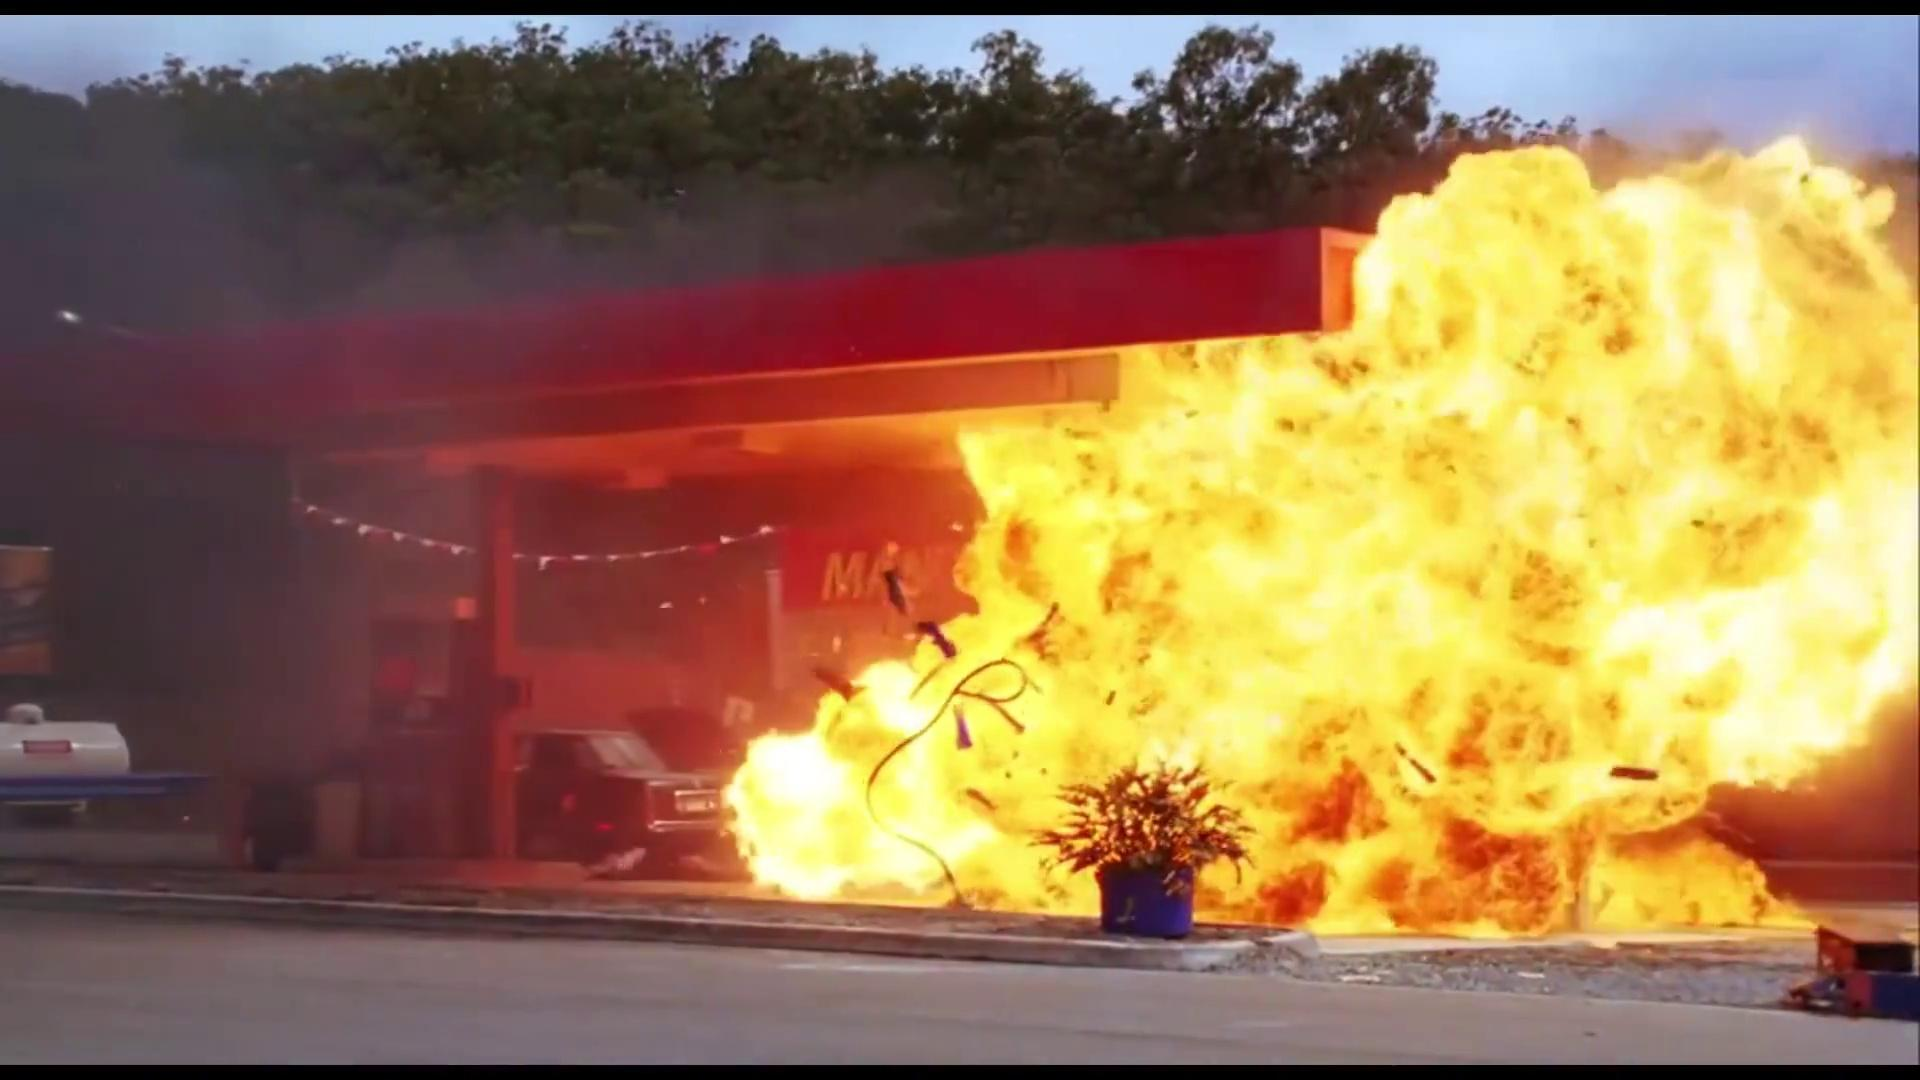fire: (713, 157, 1920, 930)
